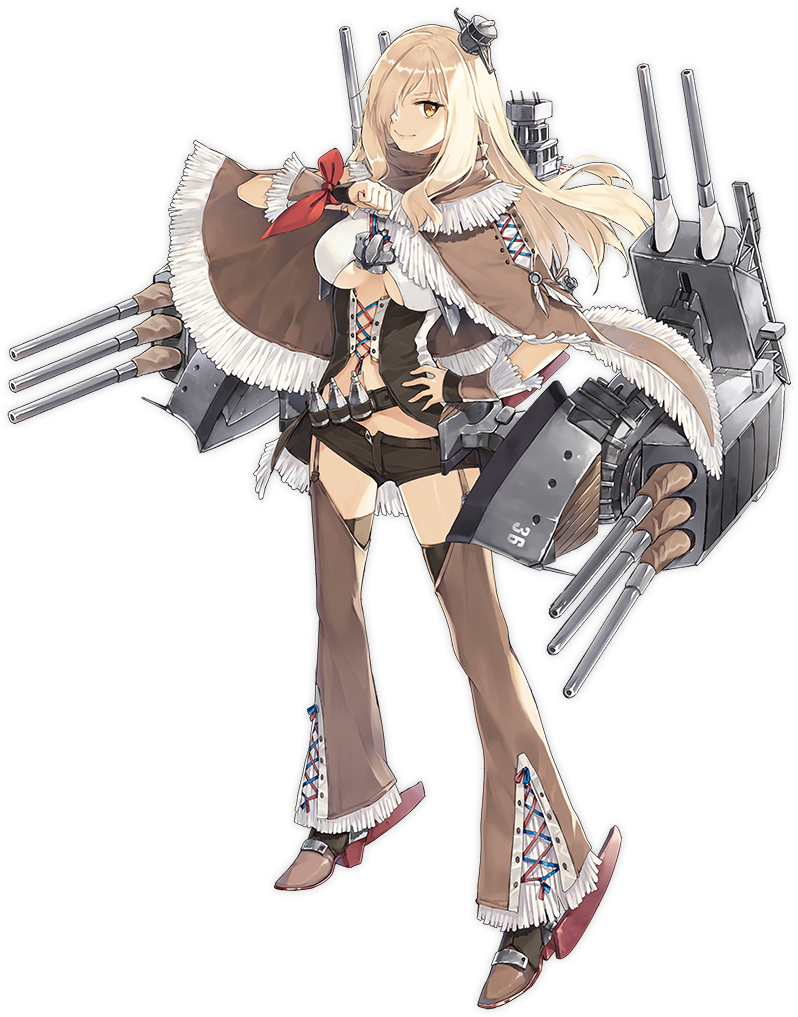person: (120, 10, 674, 755)
